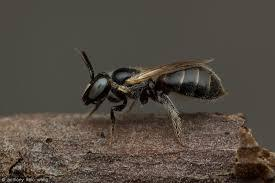Braunsapis: (70, 45, 230, 138)
